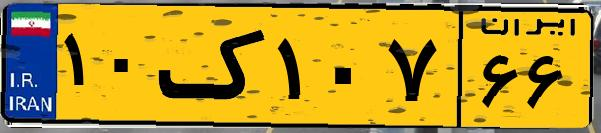0: (330, 28, 385, 110), (110, 28, 158, 98)
1: (270, 28, 330, 110), (57, 26, 110, 100)
6: (475, 38, 525, 113), (525, 38, 570, 115)
7: (385, 28, 445, 110)
ک: (158, 12, 270, 120)
